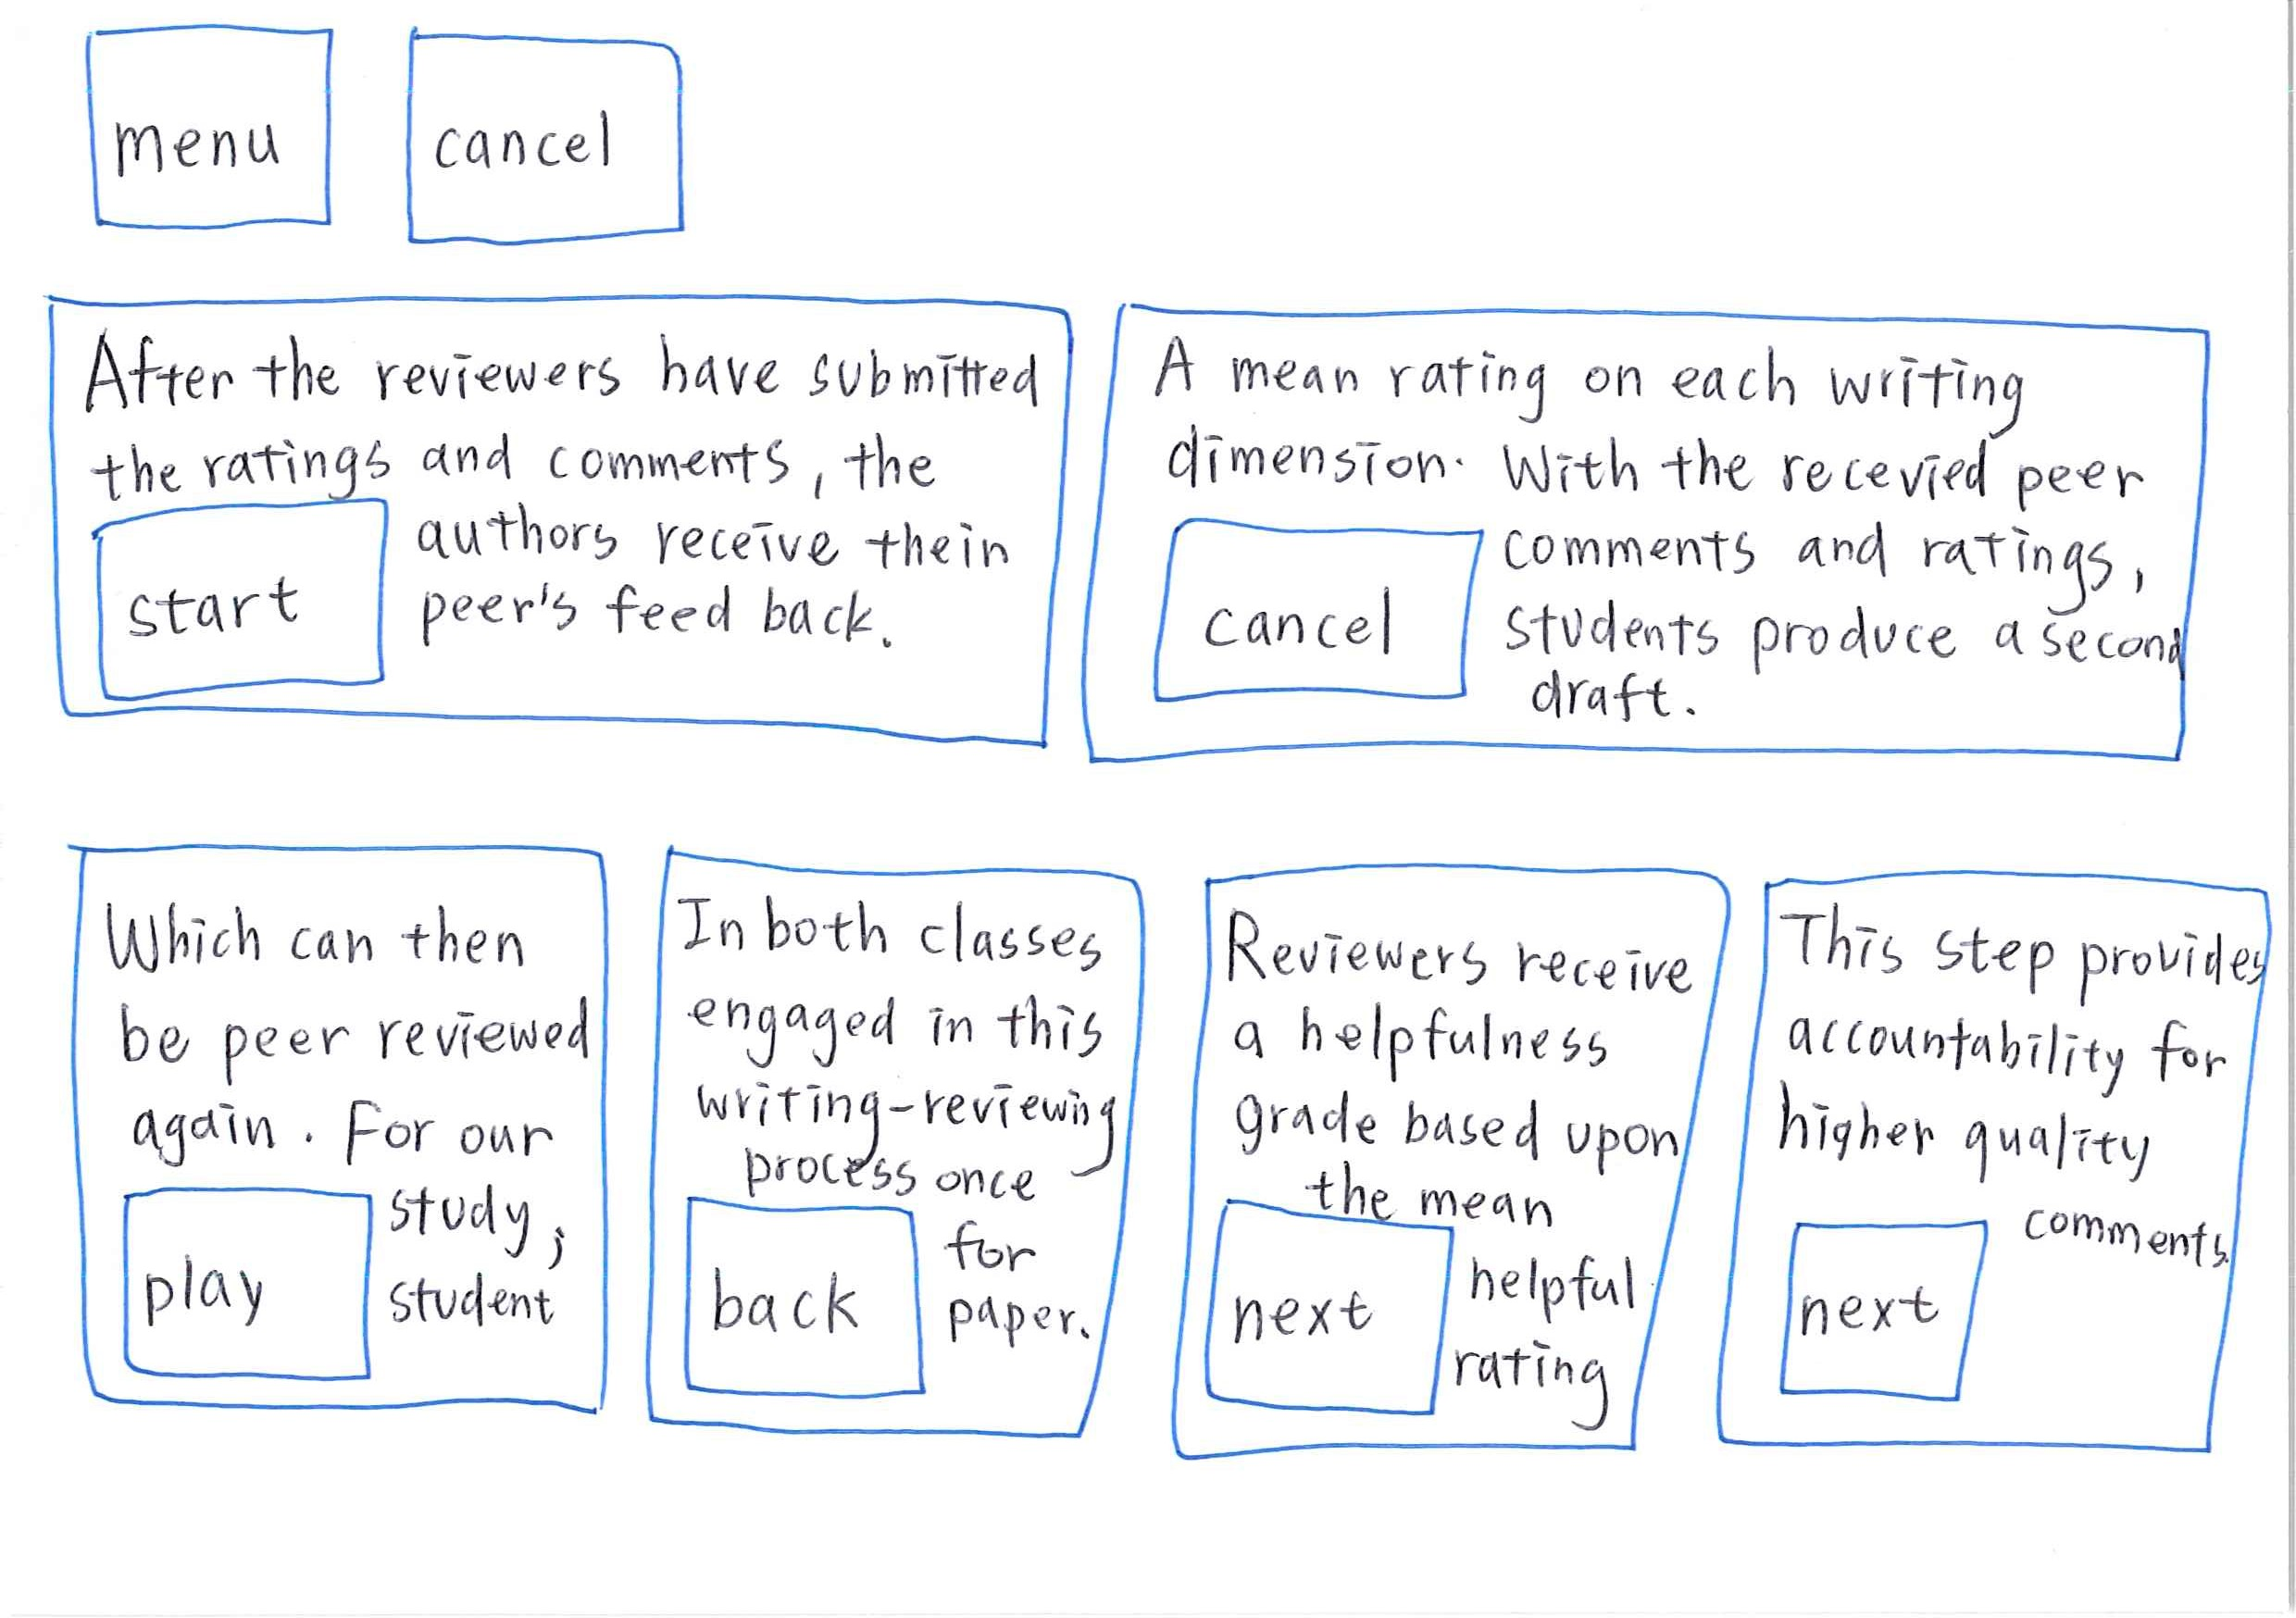cancel: (1119, 506, 1503, 720)
double: (1058, 292, 2282, 790), (18, 277, 1093, 784)
menu: (61, 11, 357, 261)
next: (1189, 1180, 1457, 1432), (1767, 1191, 2009, 1422)
play: (95, 1166, 384, 1399)
quadruple: (51, 816, 632, 1469), (1713, 832, 2285, 1478), (1172, 837, 1730, 1494), (632, 813, 1154, 1494)
row: (18, 802, 2296, 1501), (19, 256, 2271, 797), (39, 18, 2261, 284)
small-title: (82, 317, 1042, 429), (1138, 331, 2077, 433), (1221, 886, 1736, 1026), (116, 883, 550, 988), (687, 874, 1102, 979), (1797, 909, 2249, 1002)
start: (79, 482, 391, 714)
text: (1520, 452, 2161, 704), (426, 433, 1014, 665), (96, 986, 588, 1173), (694, 988, 1112, 1205), (1224, 1012, 1678, 1199), (1785, 1003, 2217, 1177), (1151, 440, 2179, 508), (93, 415, 940, 492), (380, 1031, 578, 1347), (1461, 1154, 1620, 1415), (2033, 1105, 2219, 1284), (958, 1119, 1074, 1354)
